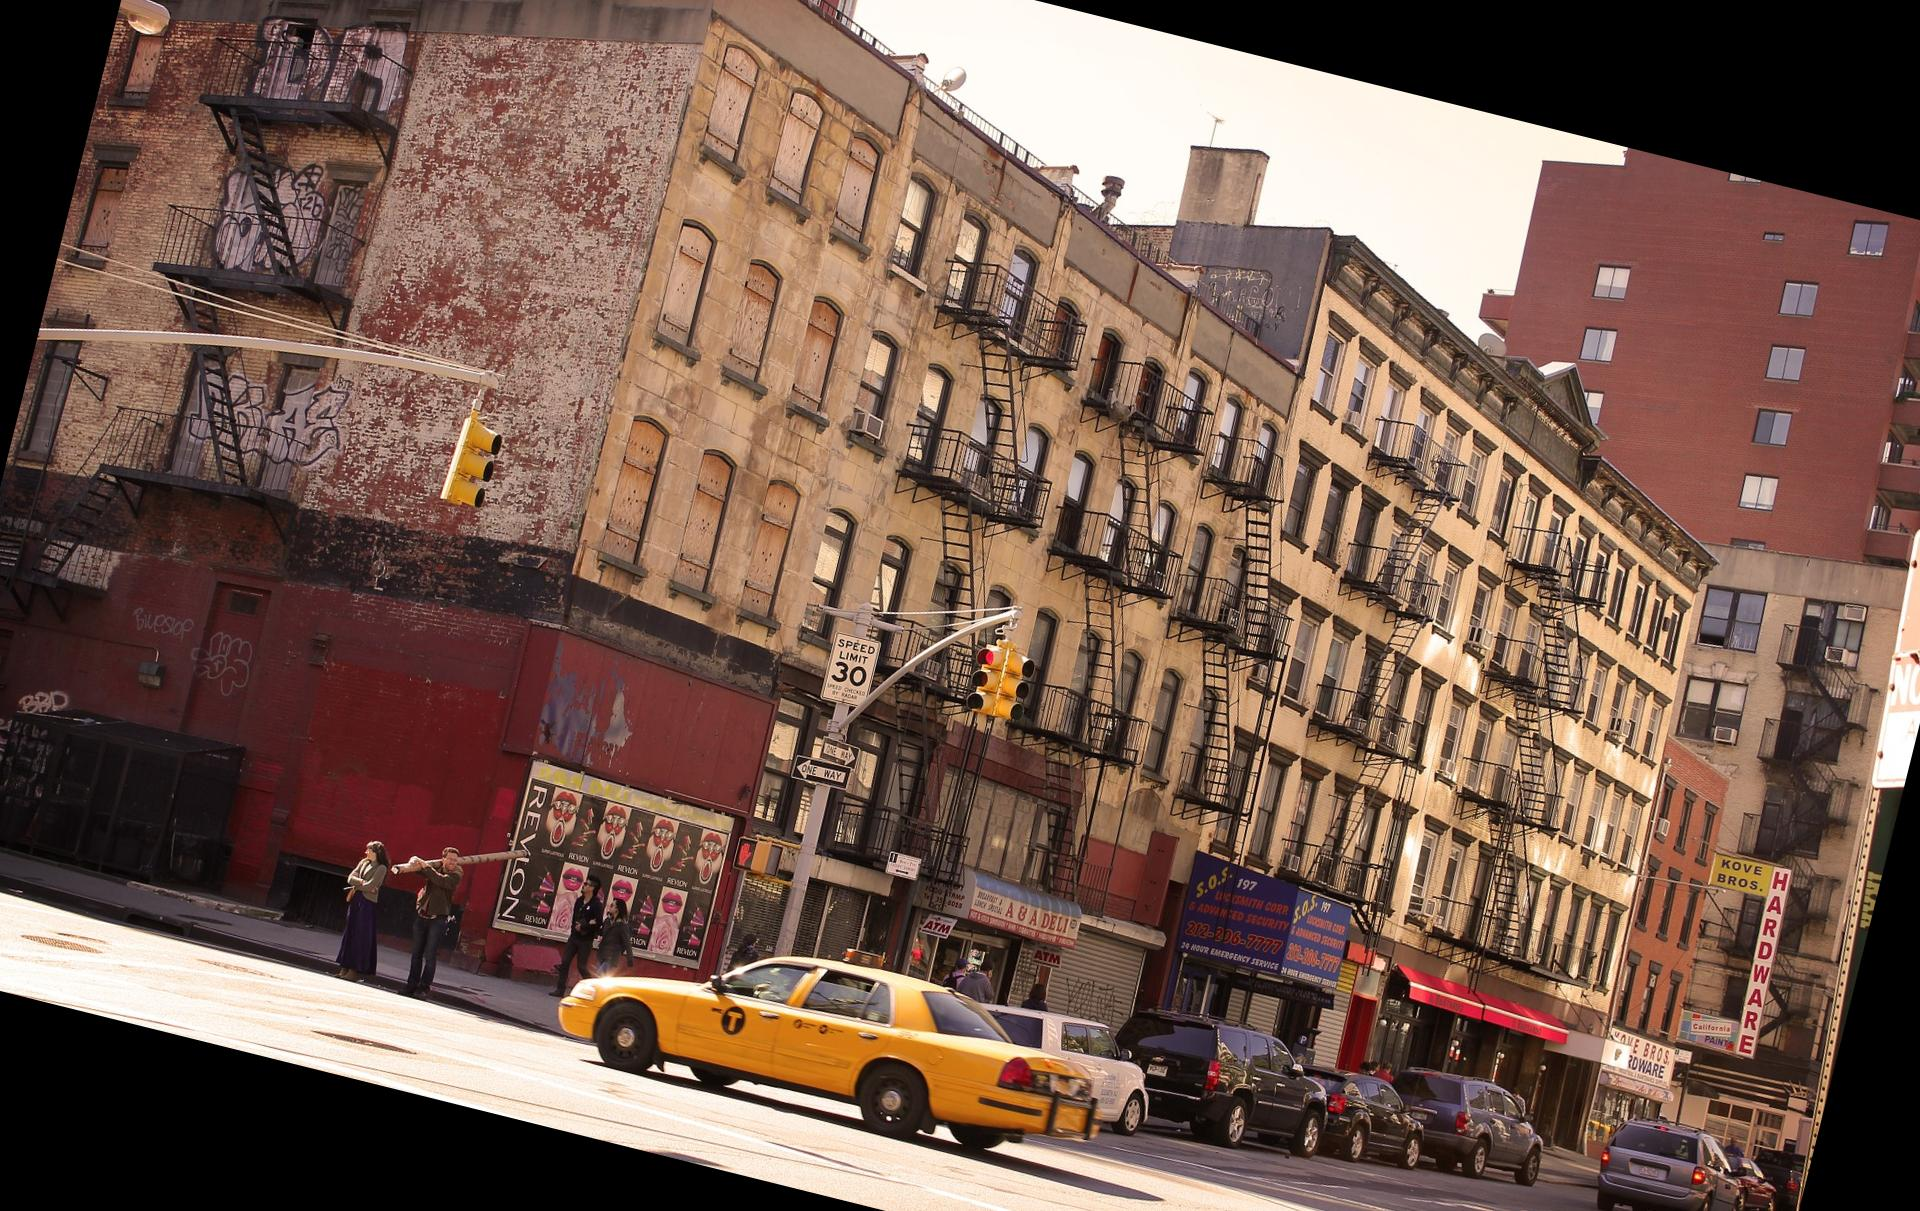taxi: (532, 933, 1111, 1180)
